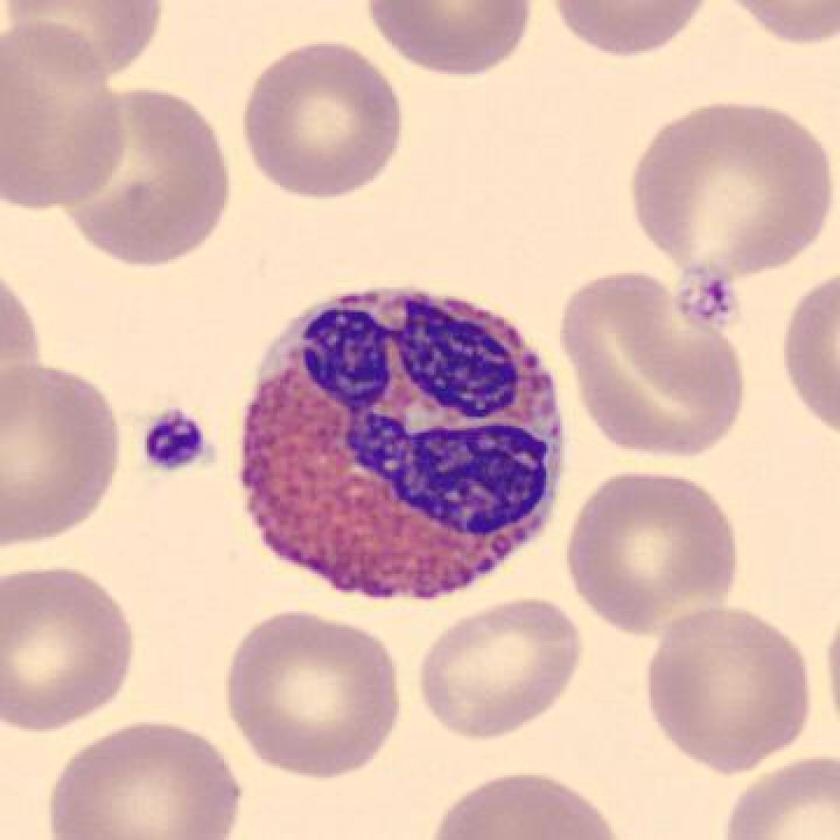eosinophil: (232, 265, 573, 612)
